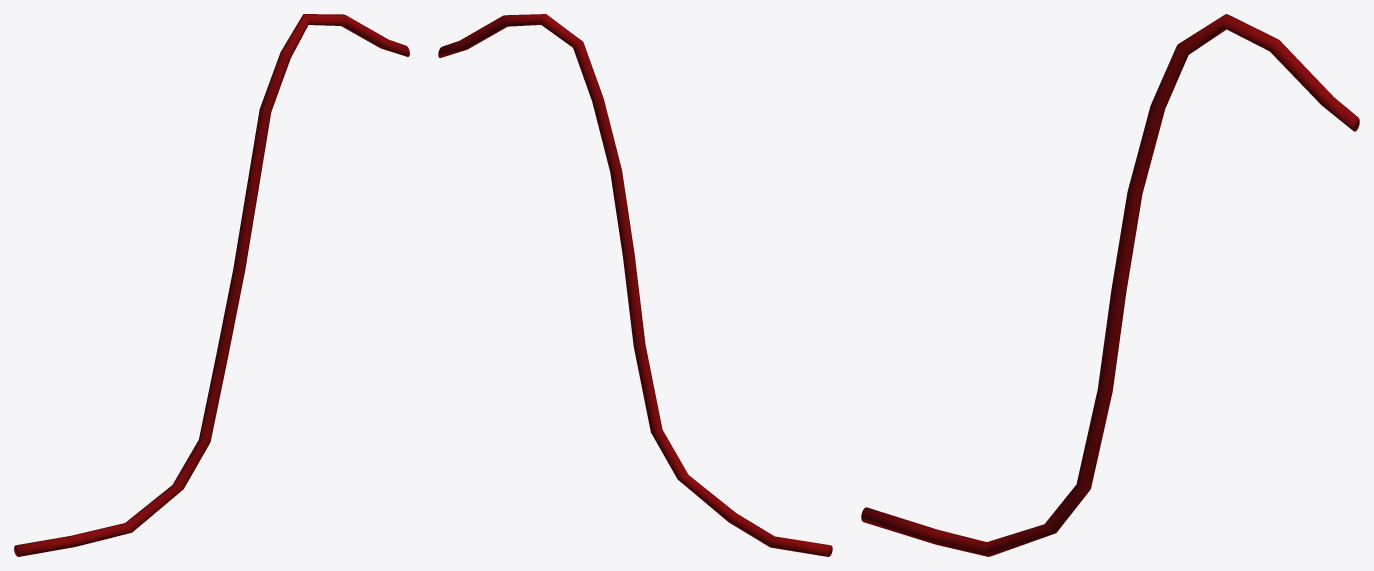
Rendered from cable02.fbx.
3 views of the same model, side by side, from view 1: azimuth 30°, elevation 25°; view 2: azimuth 150°, elevation 25°; view 3: azimuth 330°, elevation 25° (orthographic). The views are drawn at different scales.
Visible parts, largest first — view 1: BezierCurve.004; view 2: BezierCurve.004; view 3: BezierCurve.004.
Part boxes in pixels (x1,y1,x2,y2): BezierCurve.004: (14, 14, 409, 556); BezierCurve.004: (438, 14, 832, 556); BezierCurve.004: (861, 14, 1359, 556).
Bounding box in the file's own units: 2734 × 3198 × 211.
